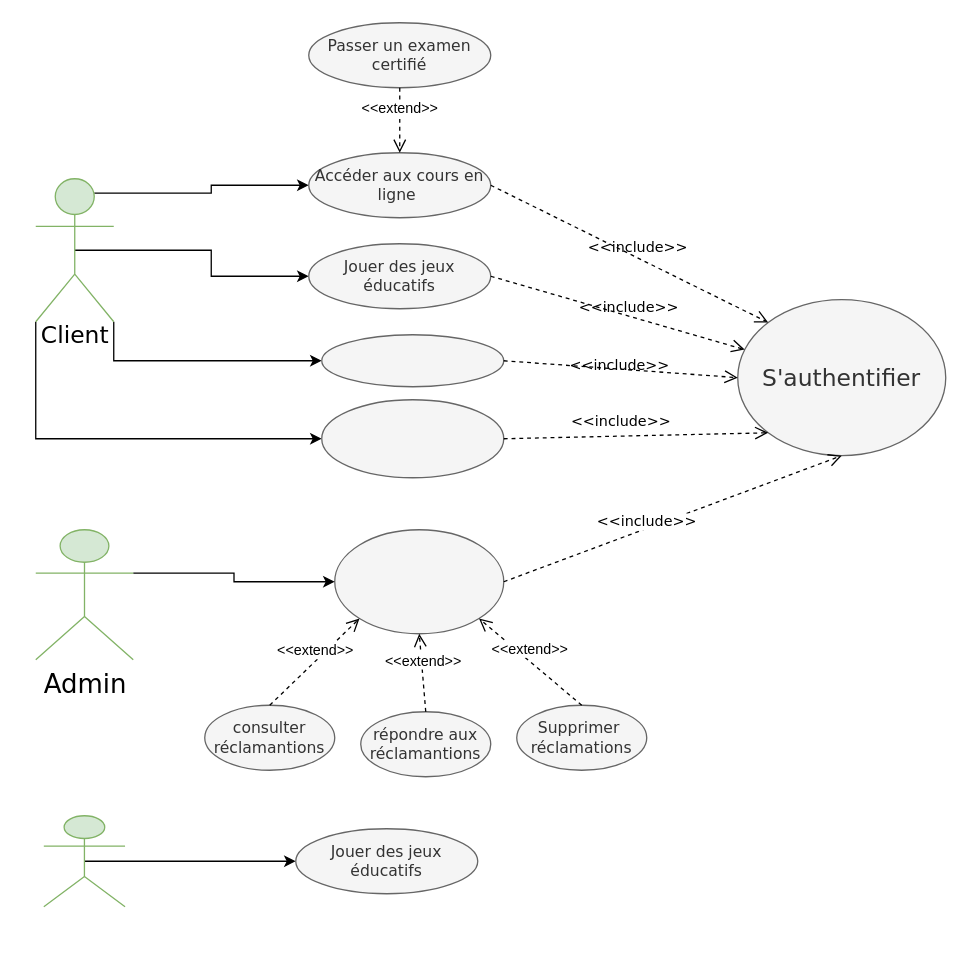
The diagram is 968 pixels wide and 970 high, and some of its shapes have lost their labels. The shapes that lost their labels are listed below. From the top down, each one's centre as x and y in pixels, then its label:
[412,360]: Envoyer une réclamation
[412,438]: recevoir les réponses à la réclamation
[418,581]: Gérer réclamations
[84,860]: Visiteur
